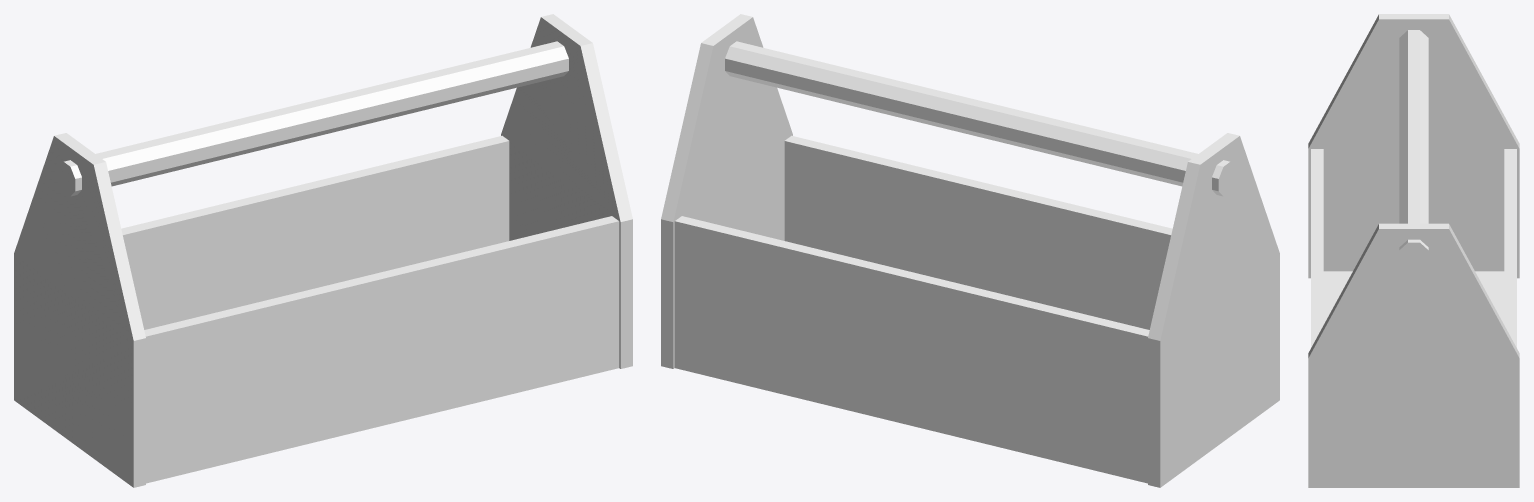
File: Tool_01_Tool_Box_01.glb
3 renders of one model, left to right at view 1: azimuth 30°, elevation 25°; view 2: azimuth 150°, elevation 25°; view 3: azimuth 270°, elevation 25°, orthographic. The views are drawn at different scales.
Visible parts, largest first — view 1: Tool_01_Tool Box_01; view 2: Tool_01_Tool Box_01; view 3: Tool_01_Tool Box_01.
Part boxes in pixels (<box>): Tool_01_Tool Box_01: <box>14,14,632,487</box>; Tool_01_Tool Box_01: <box>661,14,1279,487</box>; Tool_01_Tool Box_01: <box>1308,14,1519,487</box>.
Bounding box in the file's own units: 0.4567 × 0.25 × 0.1846.
1 material, 1 textured.
